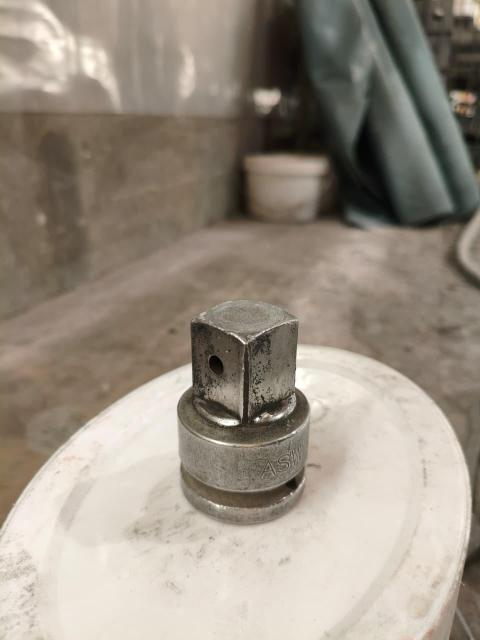Metal: (175, 297, 311, 523)
